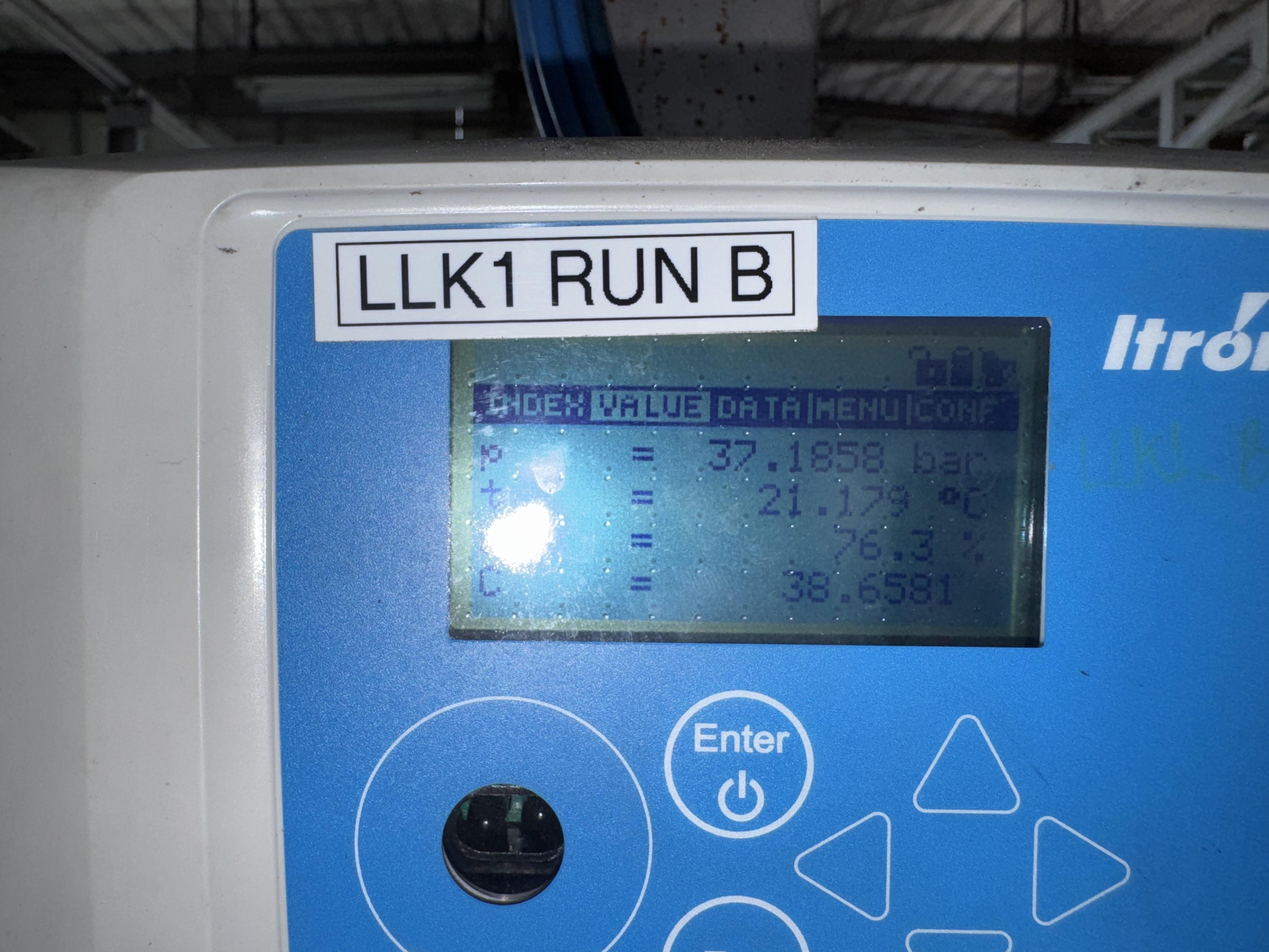digital_screen: (447, 311, 1051, 647)
